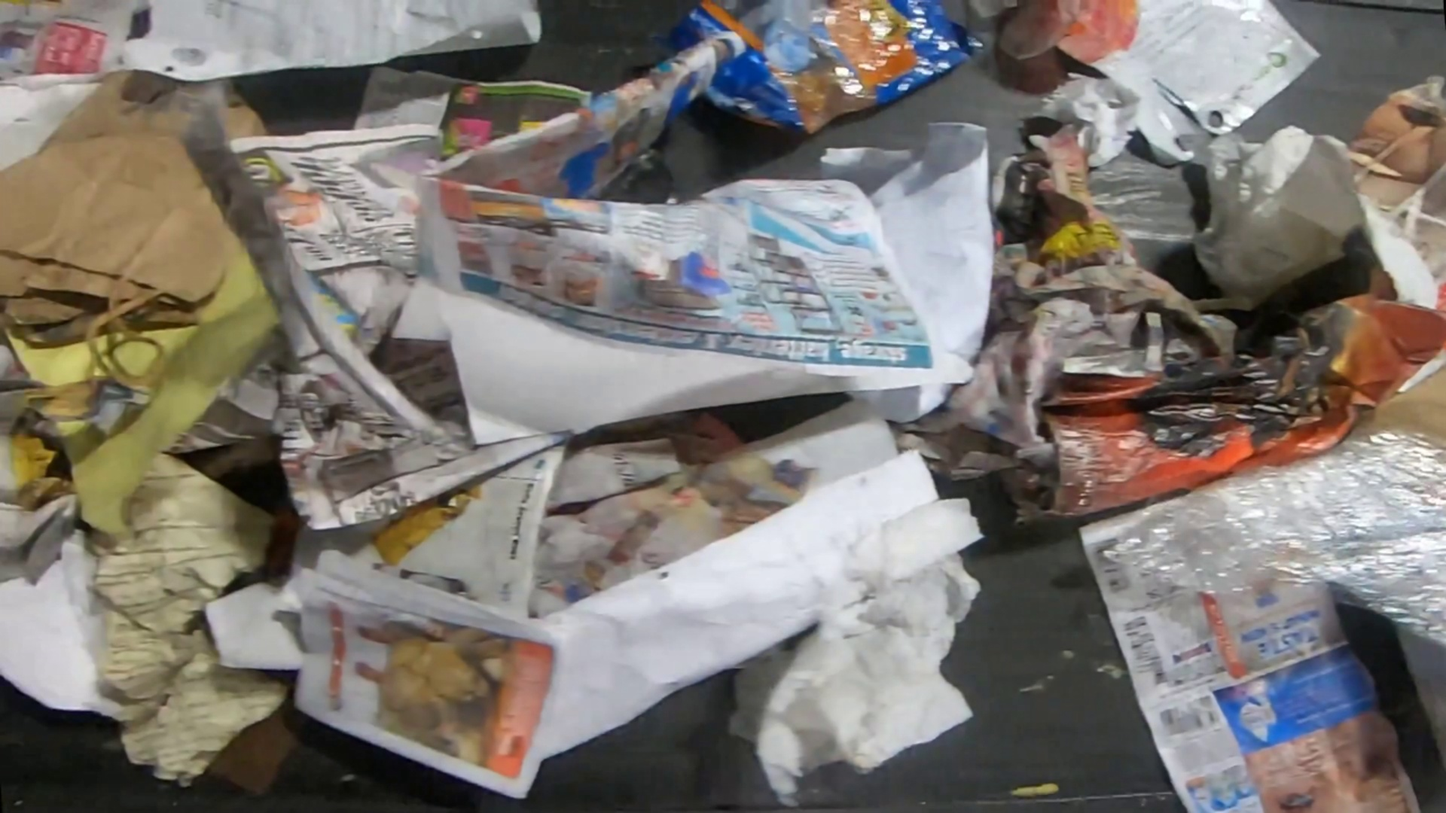plastic: (1097, 428, 1446, 654), (660, 0, 985, 136), (965, 0, 1144, 60)
